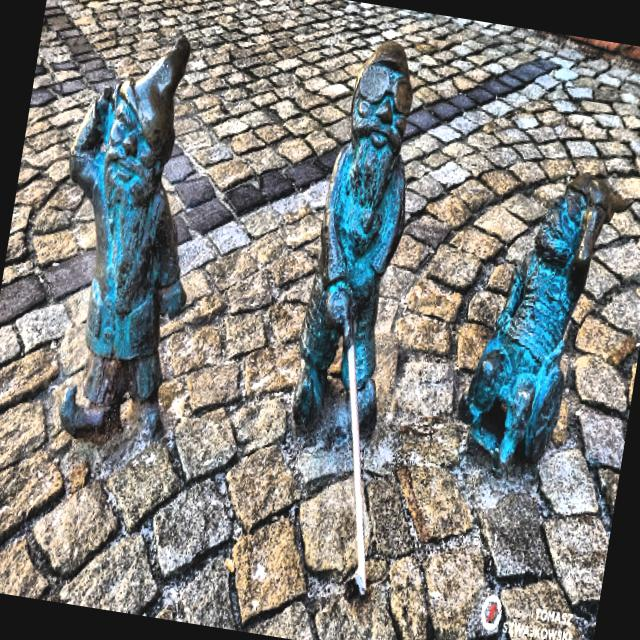Gluchak: (61, 40, 190, 438)
Slepak: (293, 41, 412, 592)
W-Skers: (460, 177, 625, 470)
